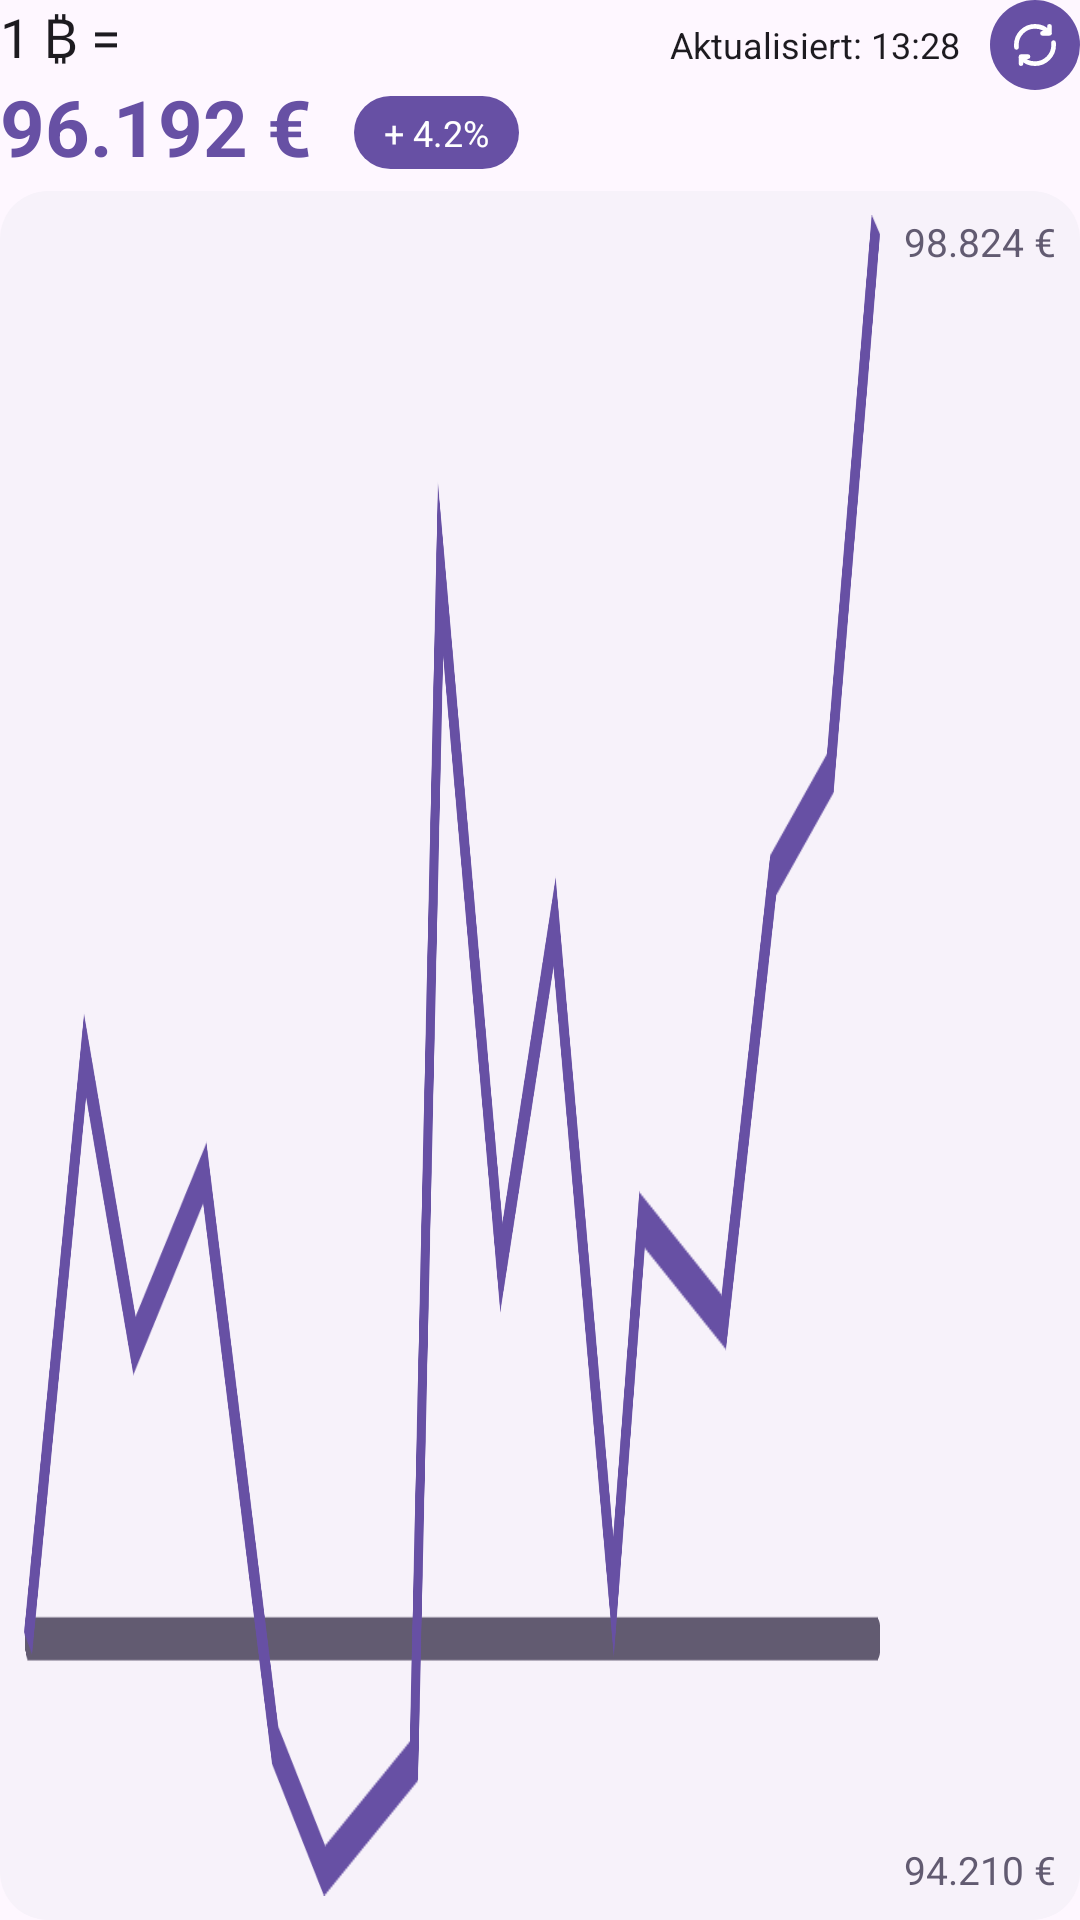

Icon bounding boxes for this 1080*1920 phone screenshot, format (x1, y1, x2, y2):
refresh cw: (990, 0, 1080, 90)
